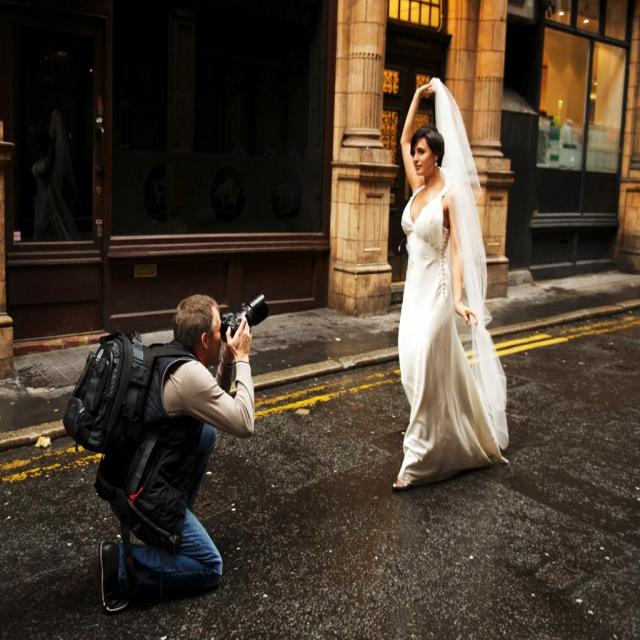nomask: (199, 312, 221, 365), (412, 134, 432, 173)
